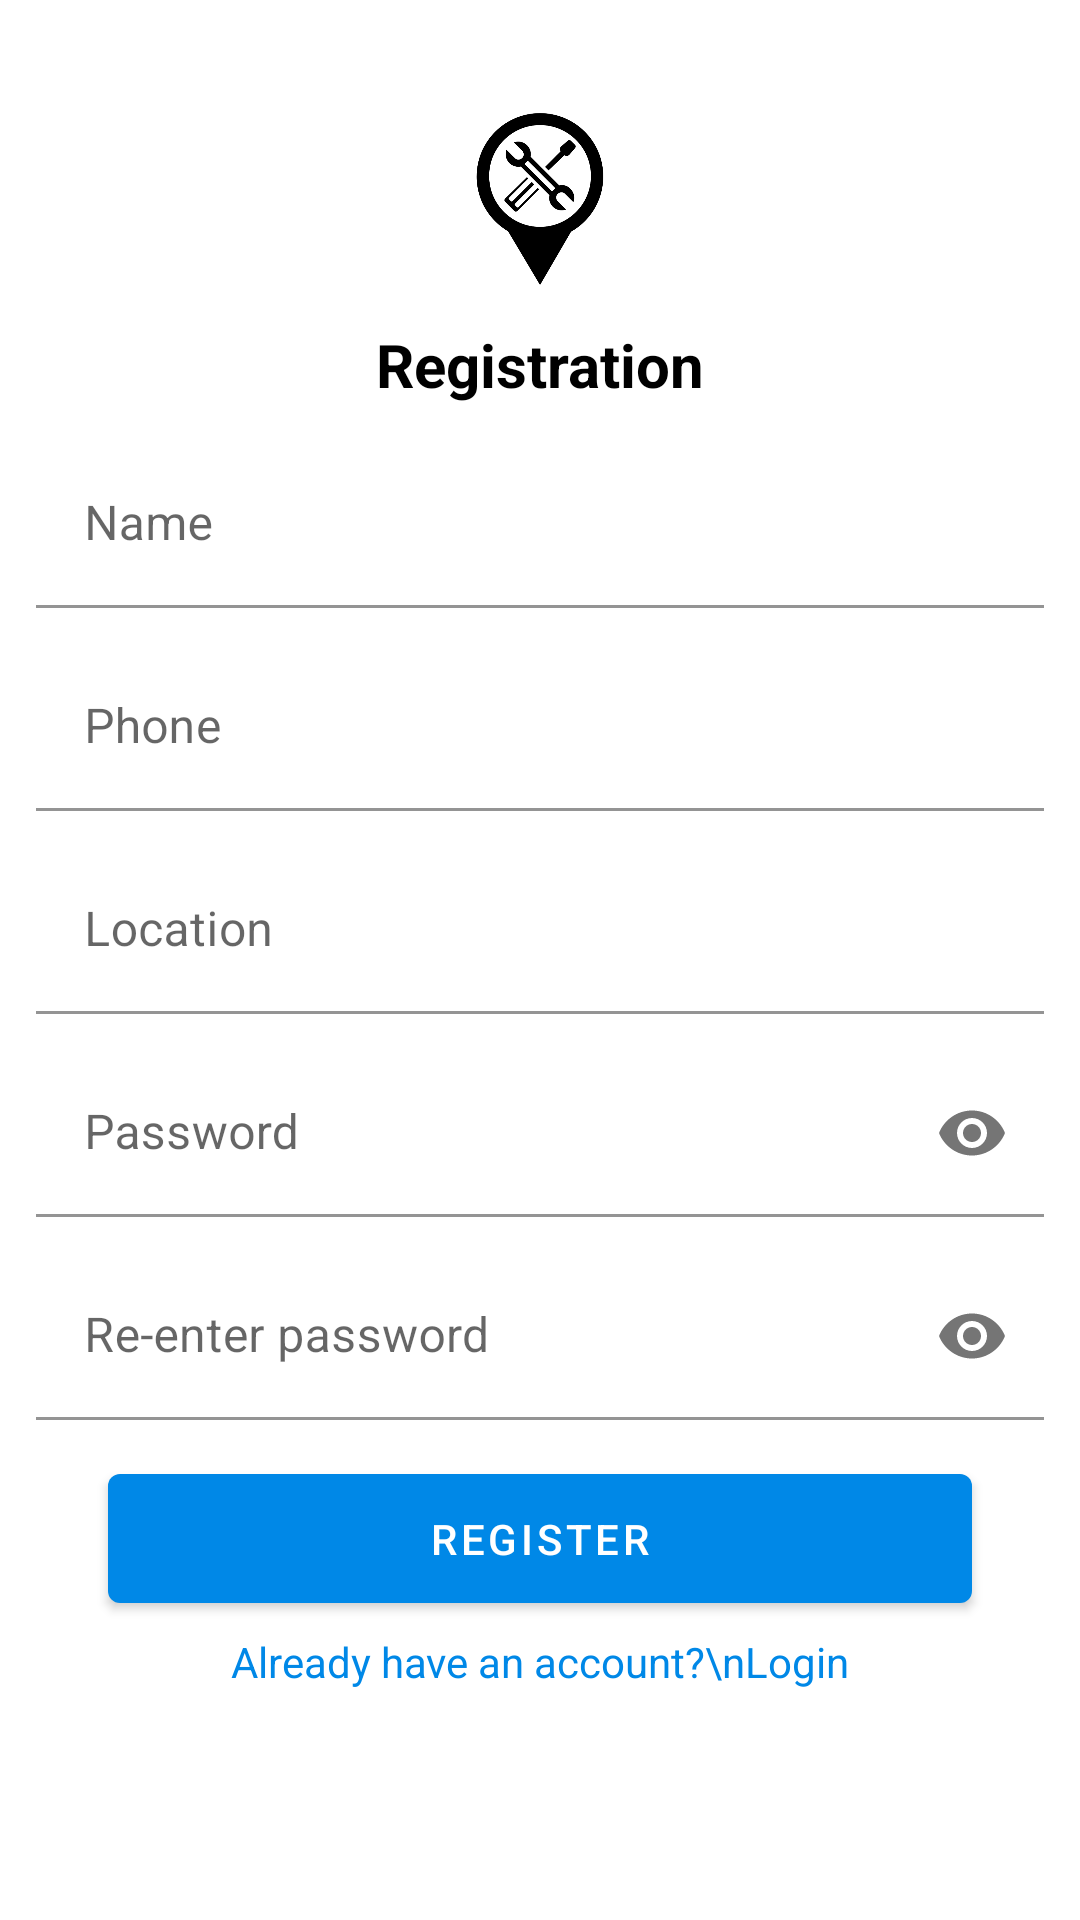

Locate icon controls on the screen. Image size 1080w x 1920h, boxes as (x1, y1, x2, y2).
auto service: (476, 113, 603, 285)
